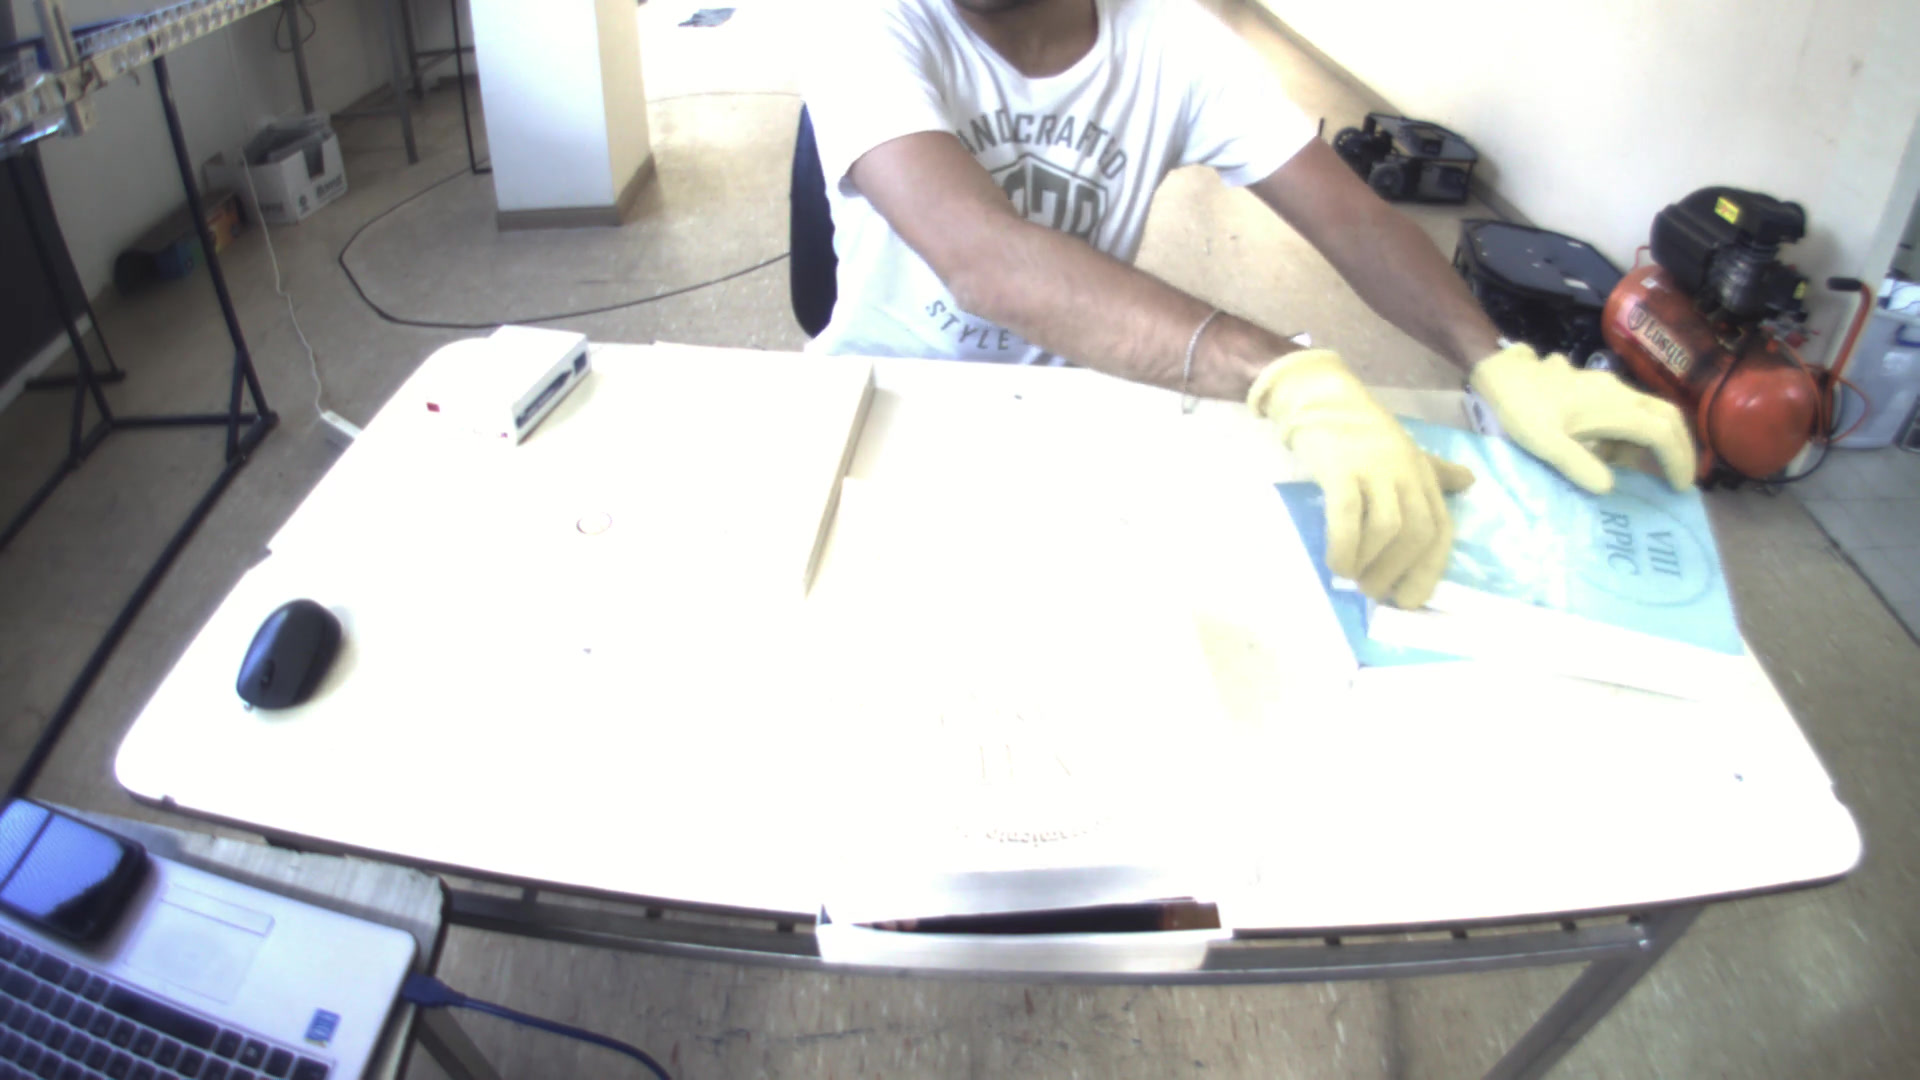hand: (1241, 338, 1499, 616), (1474, 330, 1704, 501)
